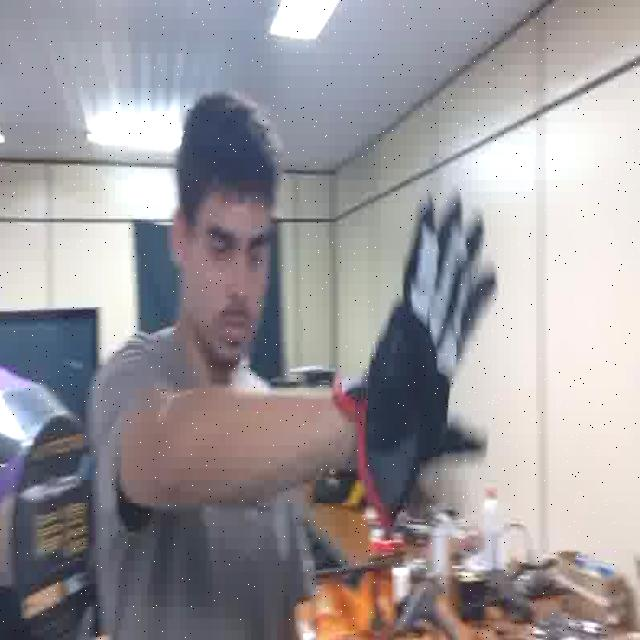Gloves: (338, 192, 499, 520)
